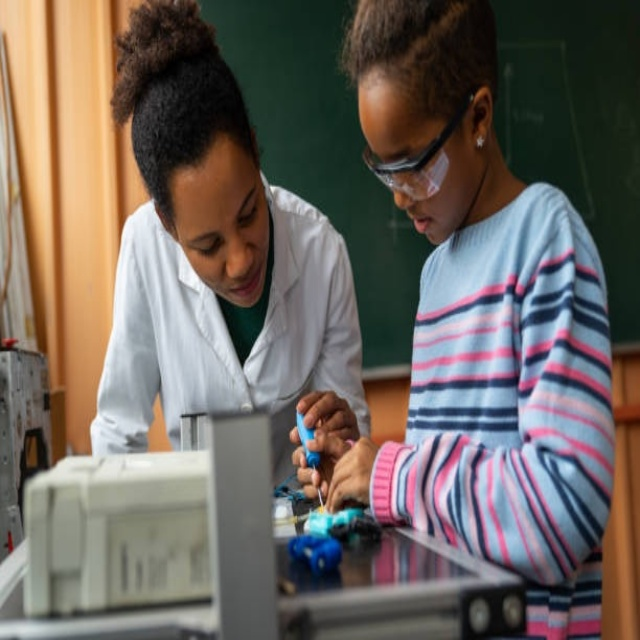Gafas: (363, 91, 472, 200)
Sin_gafas: (186, 179, 265, 260)
Sin_guantes: (291, 392, 363, 502), (324, 430, 379, 515)
Sin_mascara: (219, 265, 262, 306), (398, 207, 440, 248)
